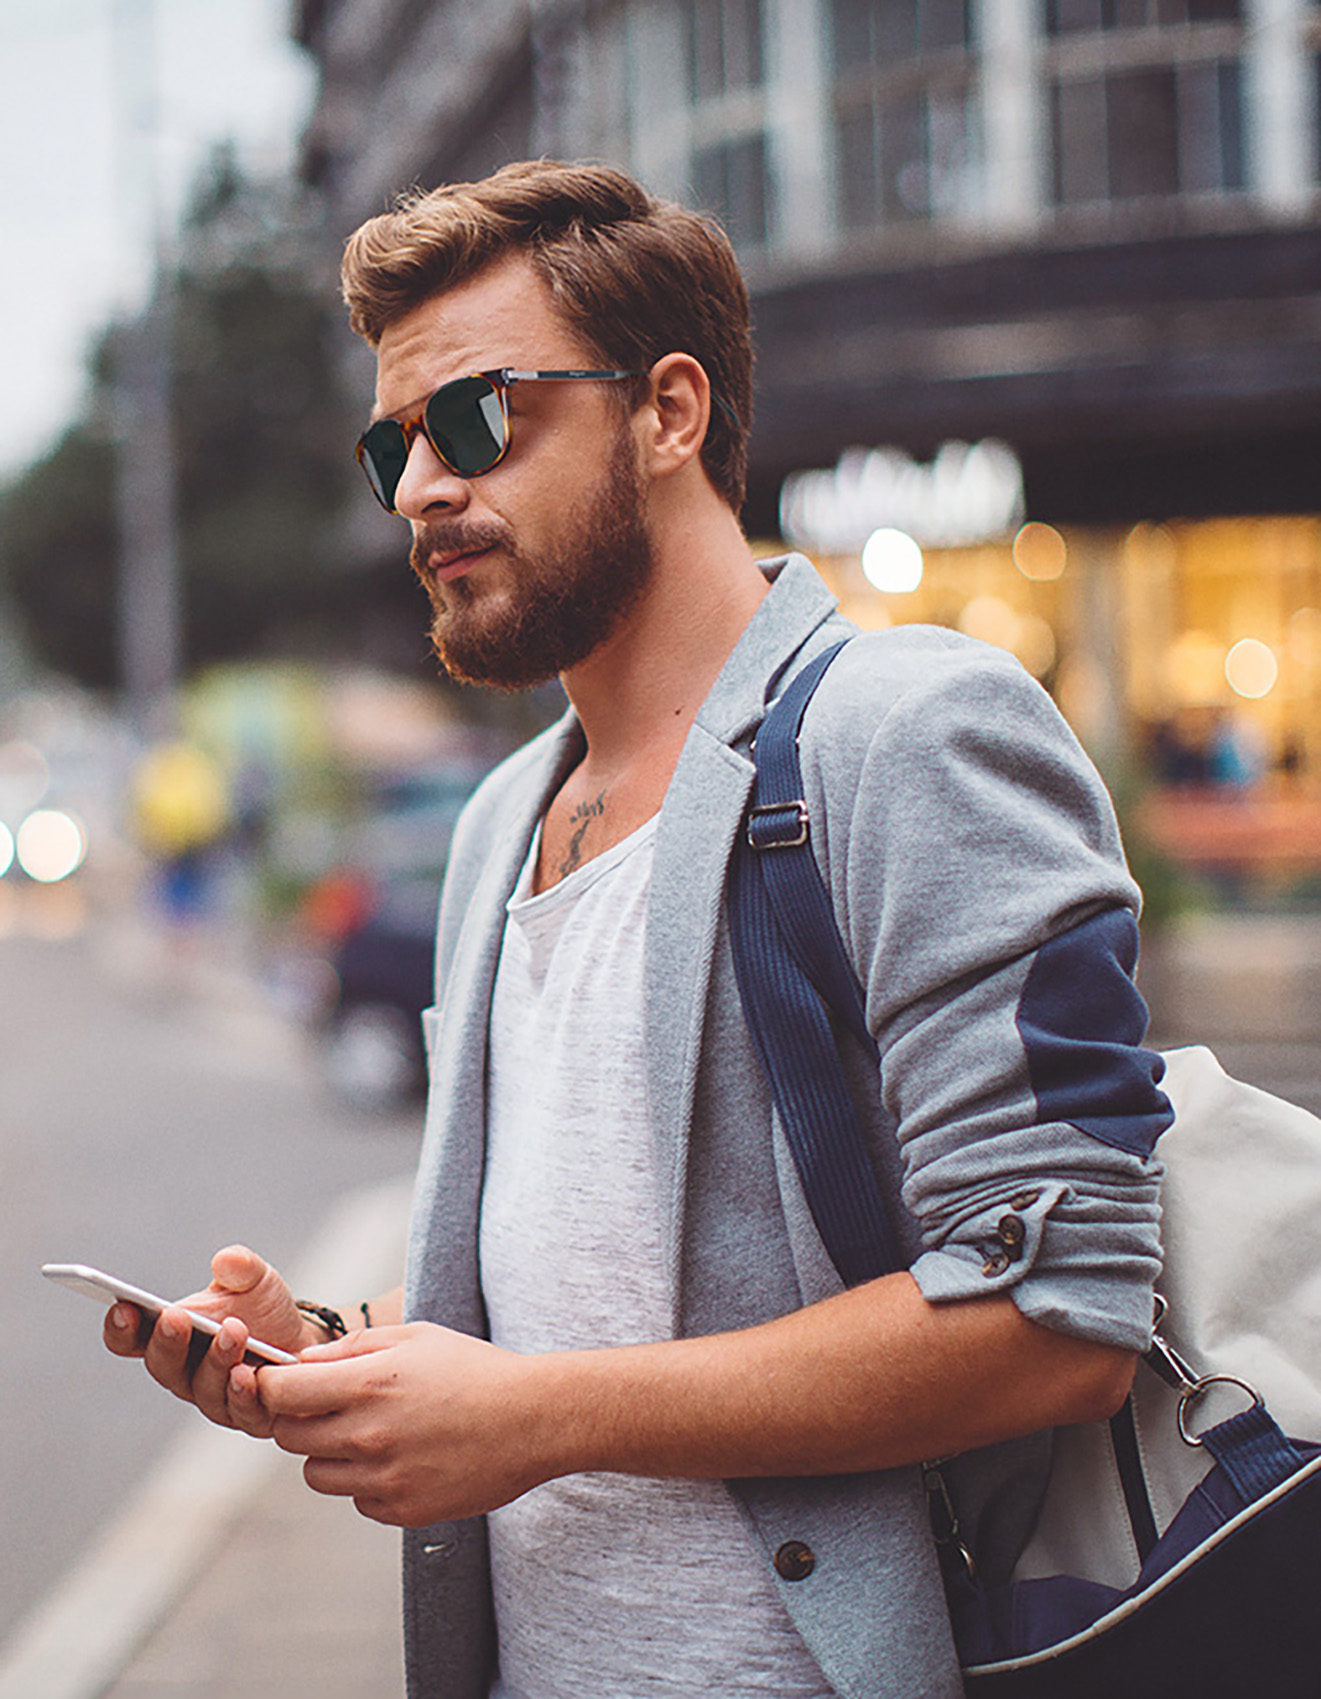sunglasses: (307, 354, 564, 490)
